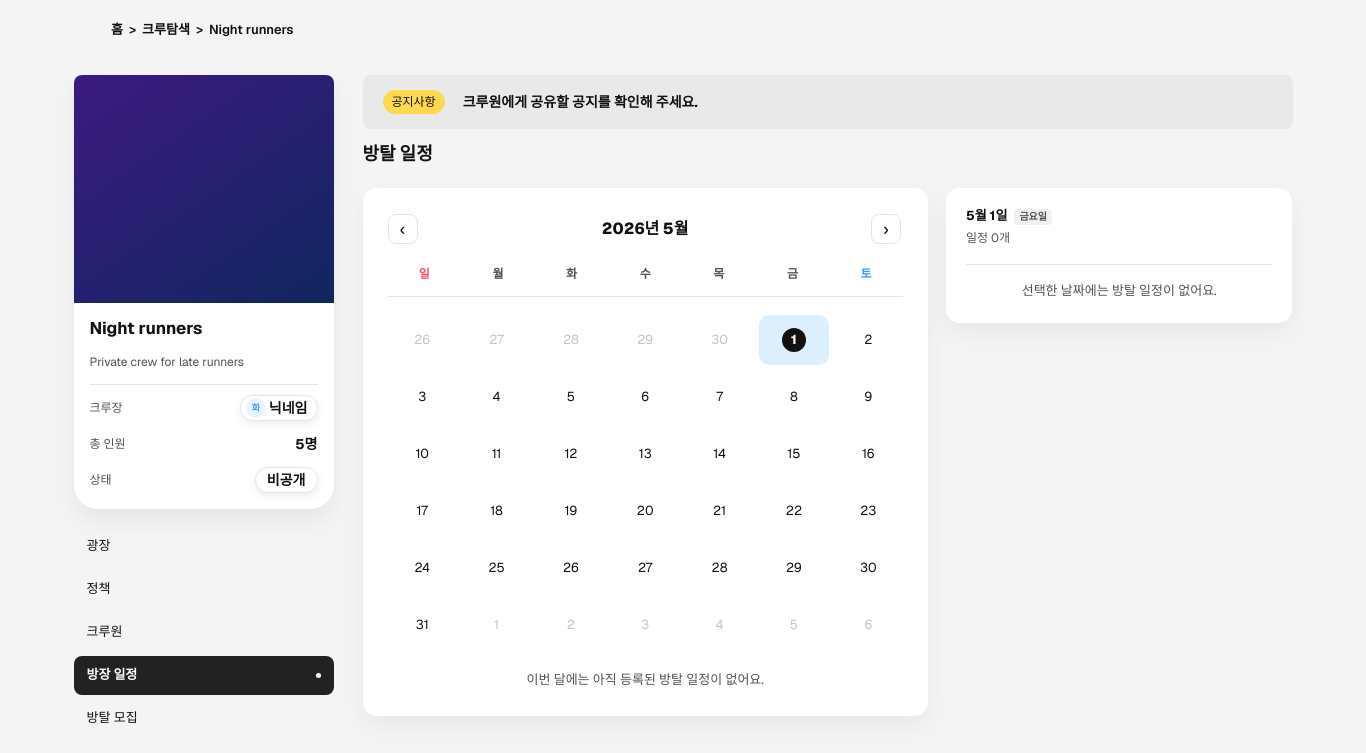
it: CrewSchedulePage › moves the visible month and reloads the crew schedule range
Expected: the text "2026년 5월" is shown, [602,218,689,239]
What coordinates should you click on to do the following:
click the button named "다음 달"
I would click on:
 (886, 229)
Its box is [871,214,901,244].
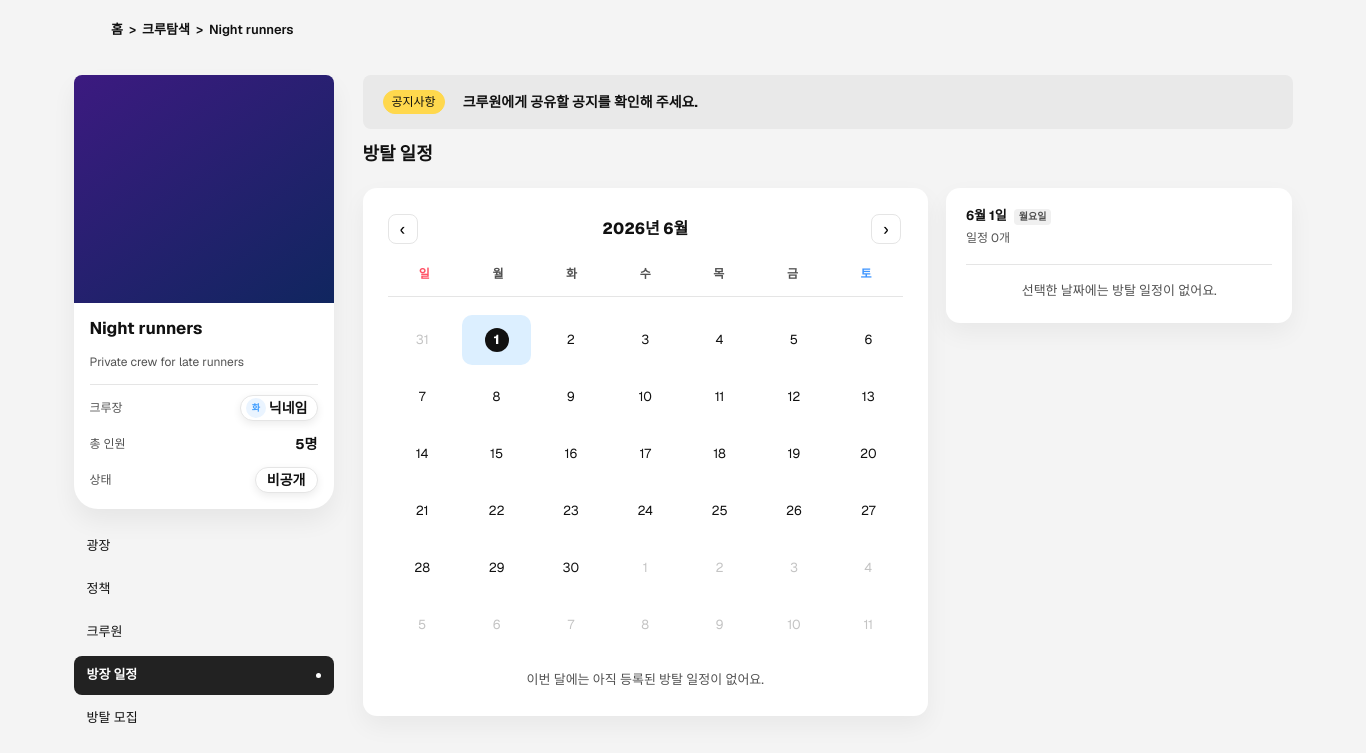
Expected: the text "2026년 6월" is shown, [602,218,688,239]
